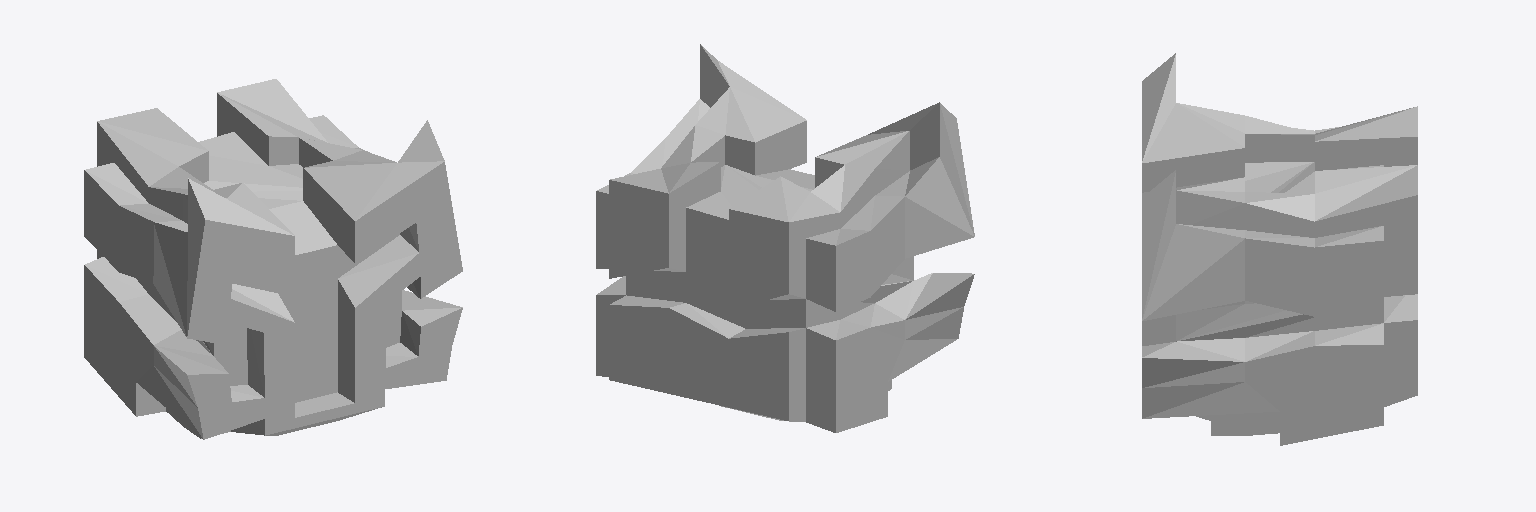
The model's file is HeavyDoubleShooterBot_LOD0-2.obj.
3 views of the same model, side by side, from view 1: azimuth 30°, elevation 25°; view 2: azimuth 150°, elevation 25°; view 3: azimuth 270°, elevation 25° (orthographic).
Parts seen in each view (by area): view 1: HeavyDoubleShooterBot_LOD0-2; view 2: HeavyDoubleShooterBot_LOD0-2; view 3: HeavyDoubleShooterBot_LOD0-2.
Boxes of the visible parts, <box> form: HeavyDoubleShooterBot_LOD0-2: <box>84,79,462,439</box>; HeavyDoubleShooterBot_LOD0-2: <box>596,44,974,432</box>; HeavyDoubleShooterBot_LOD0-2: <box>1142,53,1417,445</box>.
Size of the model in its own units: 0.9218 by 0.9257 by 0.8.